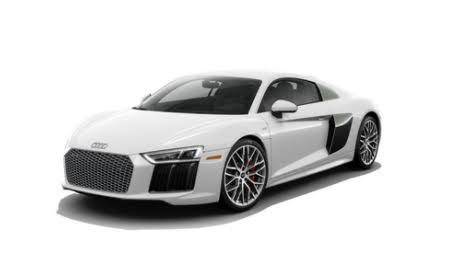audi: (51, 61, 384, 217)
